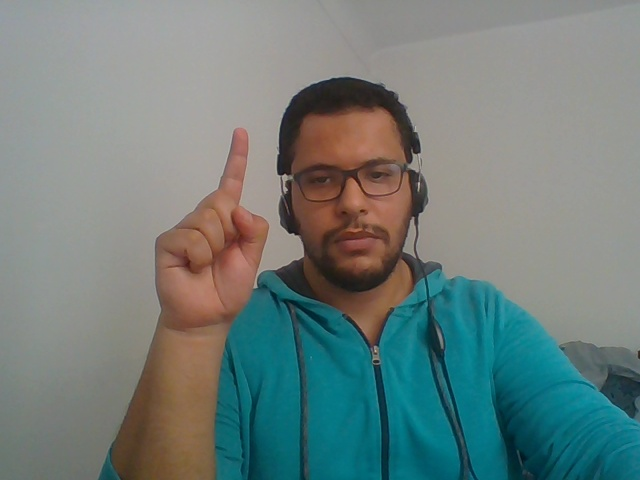handup: (126, 112, 271, 434)
